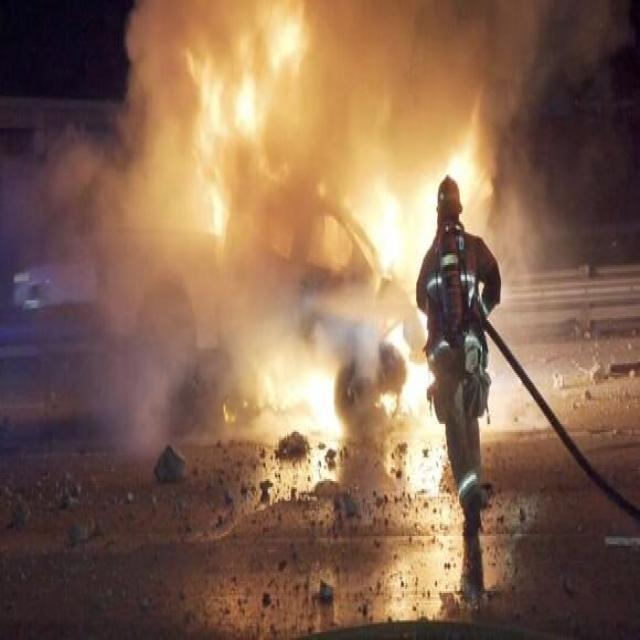Fire: (181, 16, 299, 238), (360, 108, 495, 282), (265, 339, 343, 430)
Smoke: (11, 0, 626, 460)
